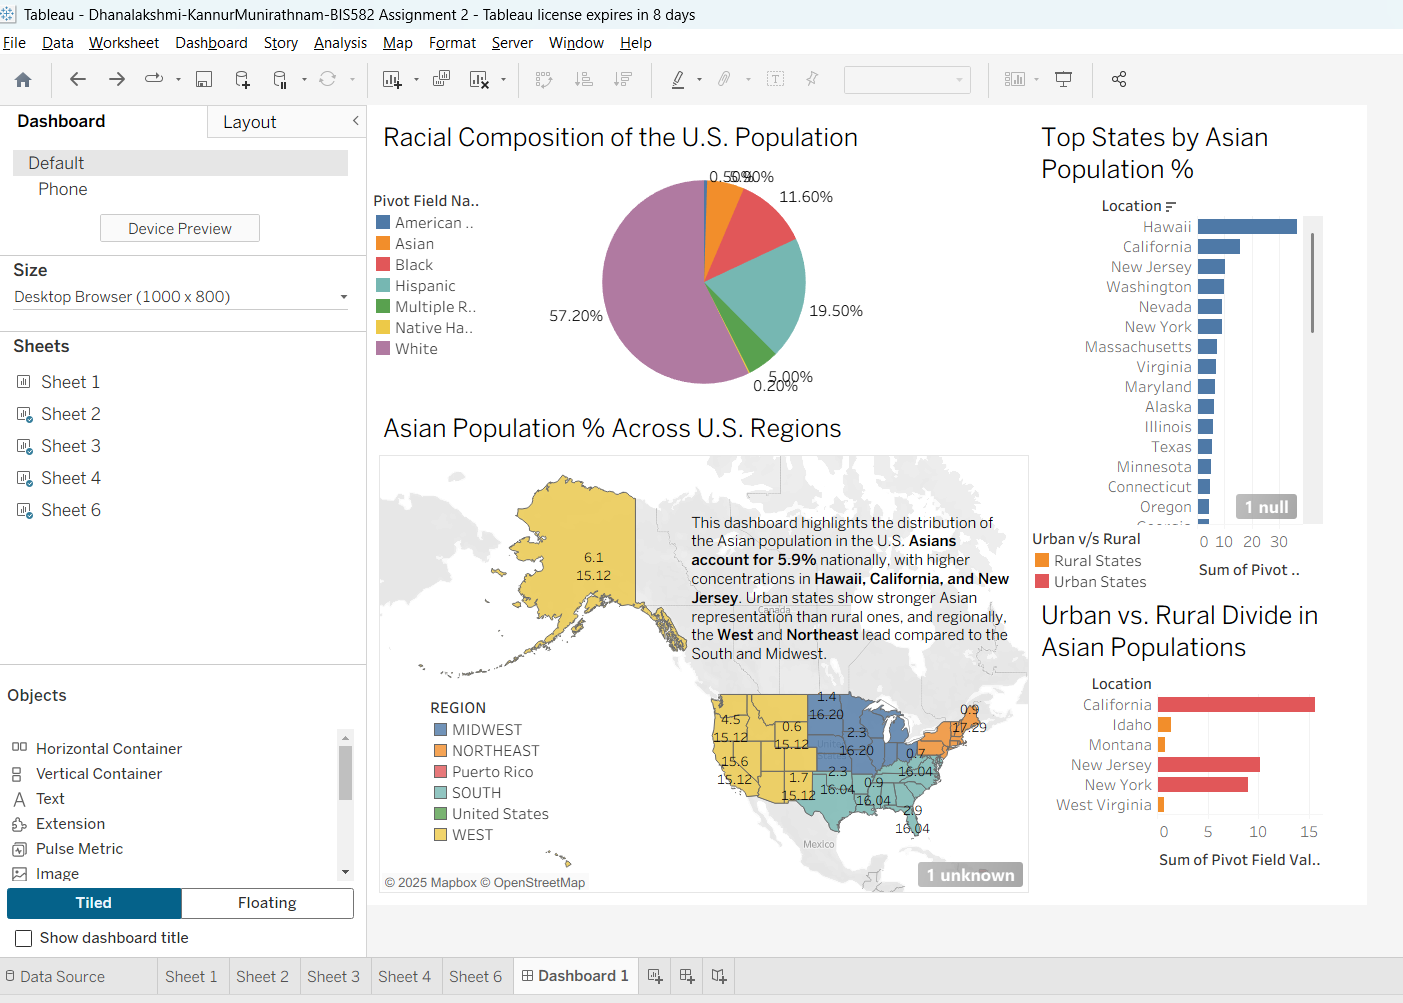

The page's visual inventory and layout, read from the dashboard file:
{"tool":"tableau","page":{"name":"Dashboard 1","canvas":[1000,800],"ordinal":0},"visuals":[{"type":"worksheet","title":"Sheet 2","mark":"Pie","box":[8,8,658,291]},{"type":"worksheet","title":"Sheet 3","mark":"Automatic","rows":["Location"],"cols":["Pivot Field Values"],"box":[666,8,294,478]},{"type":"legend","title":"Sheet 2","param":"[federated.0c85f5r1c9cf0p1aoli5b1x5896v].[none:Pivot Field Names:nk]","box":[6,85,108,172]},{"type":"worksheet","title":"Sheet 6","mark":"Multipolygon","box":[8,299,658,493]},{"type":"text","box":[321,394,329,179]},{"type":"legend","title":"Sheet 4","param":"[federated.0c85f5r1c9cf0p1aoli5b1x5896v].[none:Calculation_2695967377487945728:n","box":[665,423,140,64]},{"type":"worksheet","title":"Sheet 4","mark":"Automatic","rows":["Location"],"cols":["Pivot Field Values"],"box":[666,486,294,306]},{"type":"legend","title":"Sheet 6","param":"[federated.0c85f5r1c9cf0p1aoli5b1x5896v].[Location (group) 1 (group)]","box":[63,592,140,148]}]}

Visuals, with their boxes on the page's 1000x800 design canvas (x1, y1, x2, y2). These are canvas units, not pixel positions in the 1403x1003 screenshot, which may show the page scaled, cropped or inside an application window:
"Sheet 2" worksheet (Pie marks): BBox(8, 8, 666, 299)
"Sheet 3" worksheet: BBox(666, 8, 960, 486)
"Sheet 2" legend: BBox(6, 85, 114, 257)
"Sheet 6" worksheet (Multipolygon marks): BBox(8, 299, 666, 792)
text: BBox(321, 394, 650, 573)
"Sheet 4" legend: BBox(665, 423, 805, 487)
"Sheet 4" worksheet: BBox(666, 486, 960, 792)
"Sheet 6" legend: BBox(63, 592, 203, 740)
